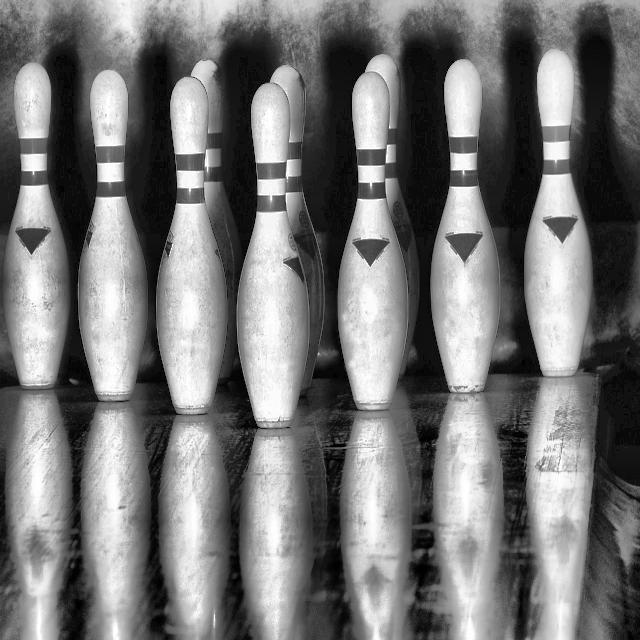bowling-pins: (237, 81, 310, 428), (338, 70, 408, 410), (156, 76, 226, 414), (432, 59, 501, 393), (78, 69, 147, 401), (2, 63, 69, 389), (526, 49, 592, 376), (270, 65, 324, 396), (366, 54, 420, 376), (192, 59, 243, 384)
